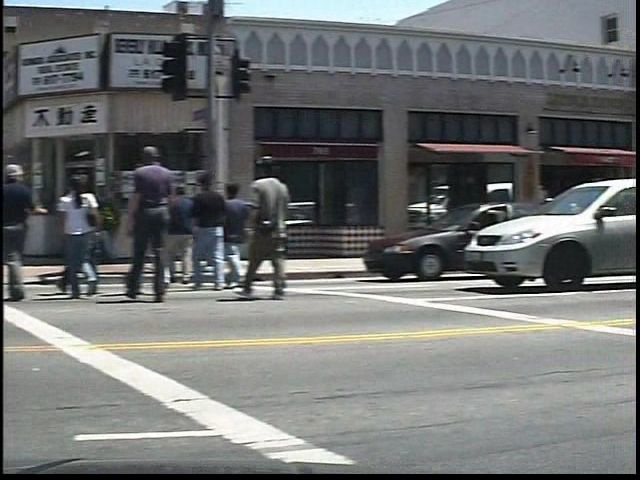person: (138, 148, 208, 312), (9, 161, 64, 314), (82, 175, 138, 306)
